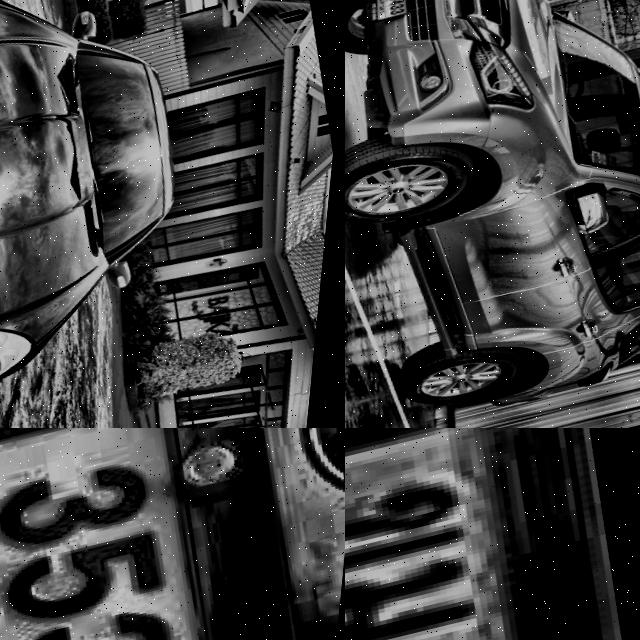license-plate: (0, 428, 314, 640), (345, 428, 640, 640), (357, 0, 421, 25)
